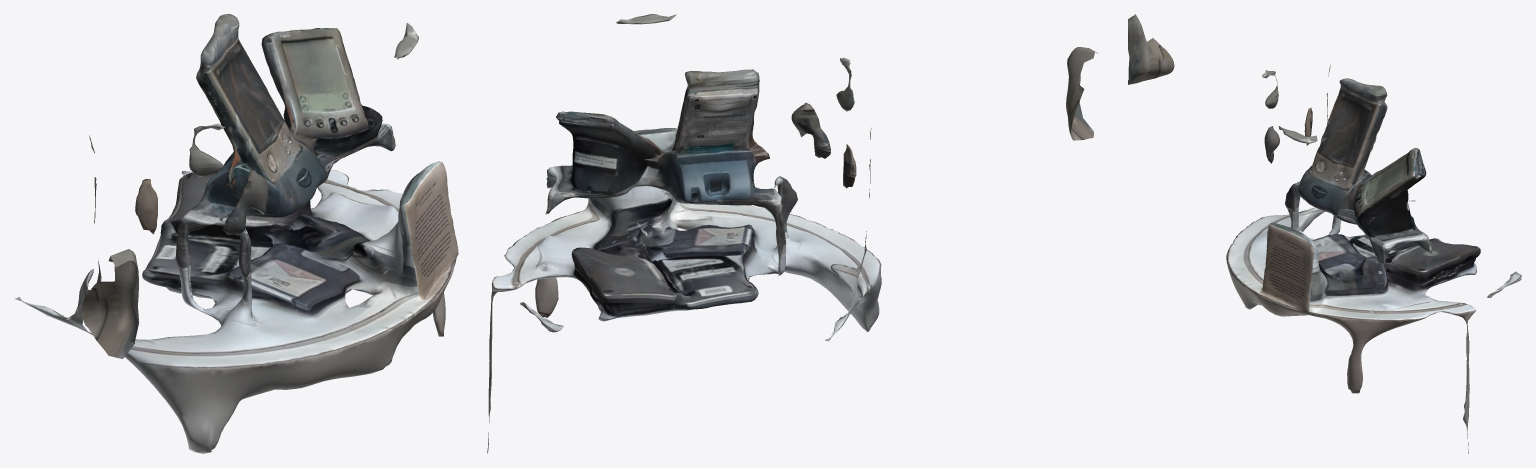
The model's file is PersonalDigitalAssistants.glb.
The picture shows the model from 3 angles, left to right: view 1: azimuth 30°, elevation 25°; view 2: azimuth 150°, elevation 25°; view 3: azimuth 270°, elevation 25°; orthographic projection. The views are drawn at different scales.
Visible parts, largest first — view 1: 3DModel; view 2: 3DModel; view 3: 3DModel.
Boxes of the visible parts, box(x1,y1,x2,y2) form: 3DModel: box(15, 14, 458, 453); 3DModel: box(487, 14, 1097, 453); 3DModel: box(1128, 14, 1521, 453).
Size of the model in its own units: 0.7588 by 0.6551 by 0.7641.
Materials: 1 (1 with a texture image).
